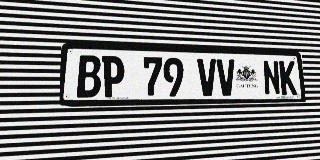7: (142, 57, 163, 97)
9: (163, 57, 184, 97)
B: (77, 55, 101, 98)
K: (279, 61, 297, 95)
N: (262, 60, 281, 95)
P: (102, 56, 124, 97)
V: (197, 58, 217, 96), (216, 59, 236, 96)
